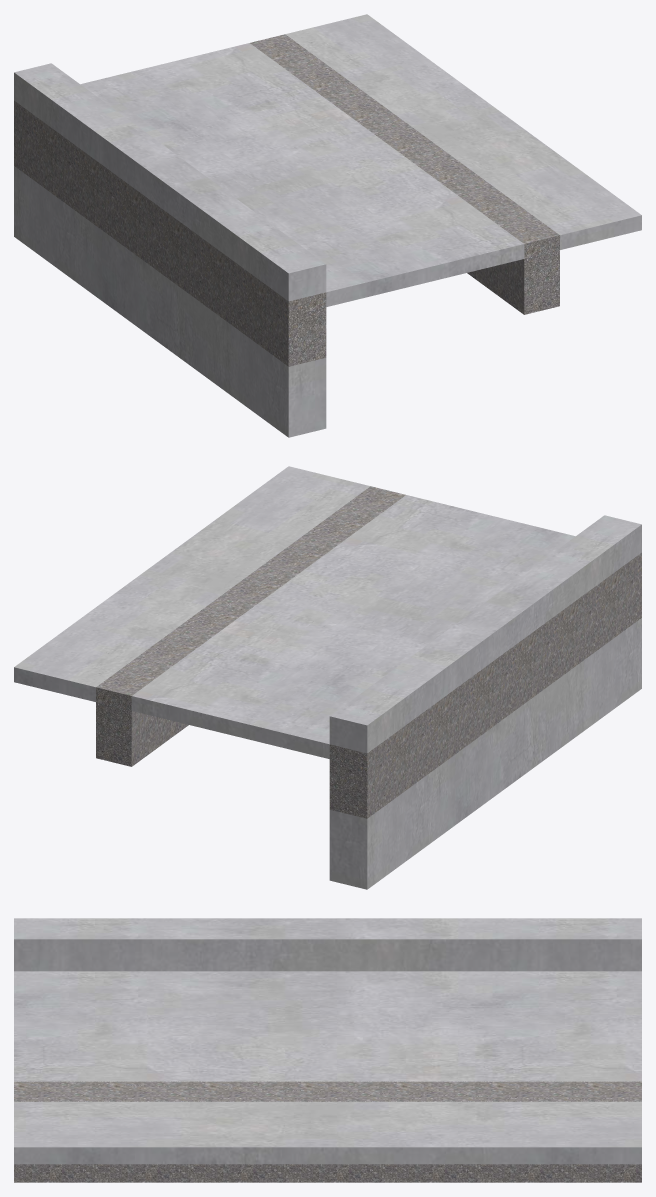
The model's file is flat.glb.
3 views of the same model, one above another, from view 1: azimuth 30°, elevation 25°; view 2: azimuth 150°, elevation 25°; view 3: azimuth 270°, elevation 25° (orthographic). The views are drawn at different scales.
Parts seen in each view (by area): view 1: 平板, 墙, 墙内梁, 中梁; view 2: 平板, 墙, 墙内梁, 中梁; view 3: 平板, 墙, 中梁.
Boxes of the visible parts, bbox=[...] form: 平板: bbox=[80, 14, 641, 306]; 墙: bbox=[14, 63, 326, 437]; 墙内梁: bbox=[14, 100, 326, 366]; 中梁: bbox=[250, 34, 559, 314]; 平板: bbox=[14, 466, 575, 758]; 墙: bbox=[329, 515, 641, 889]; 墙内梁: bbox=[329, 552, 641, 818]; 中梁: bbox=[96, 486, 405, 766]; 平板: bbox=[14, 971, 641, 1164]; 墙: bbox=[14, 918, 641, 971]; 中梁: bbox=[14, 1081, 641, 1182].
Bounding box in the file's own units: 1.48 × 0.66 × 2.
Materials: 4 (4 with a texture image).
